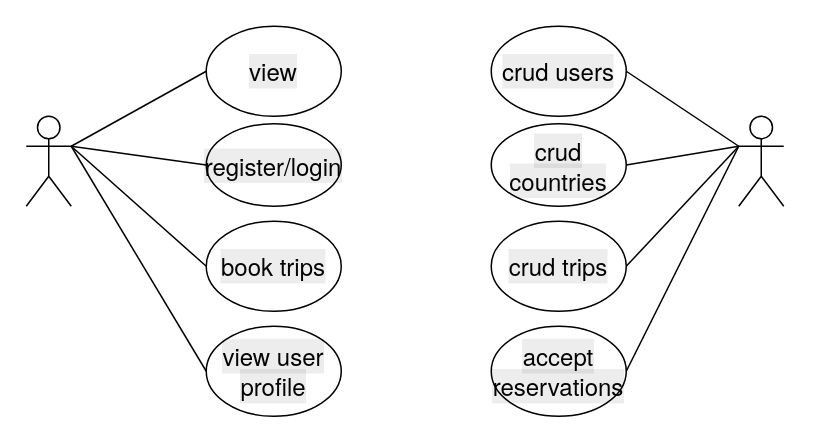
The diagram is 813 pixels wide and 443 high, and some of its shapes have lost their labels. The shapes that lost their labels are listed below. From the top down, each one's box as (x1, y1, x2, y2) in pixels, then its label:
(25, 115, 71, 206): User
(737, 115, 784, 206): Admin
